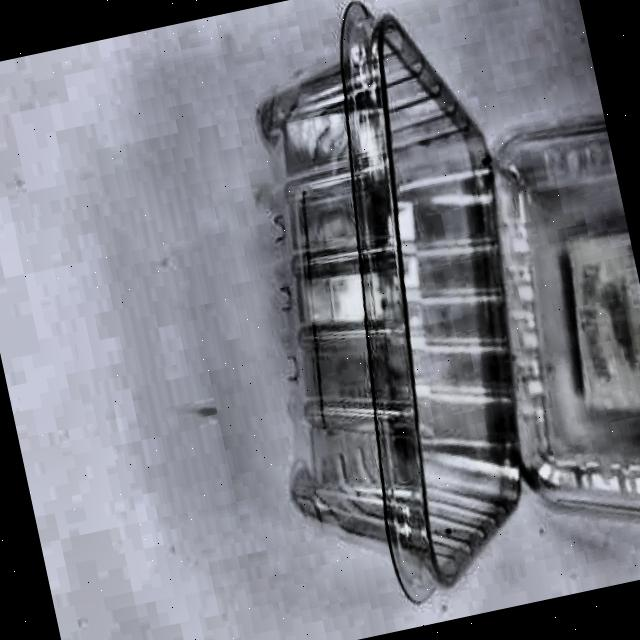plastic: (229, 0, 640, 593)
